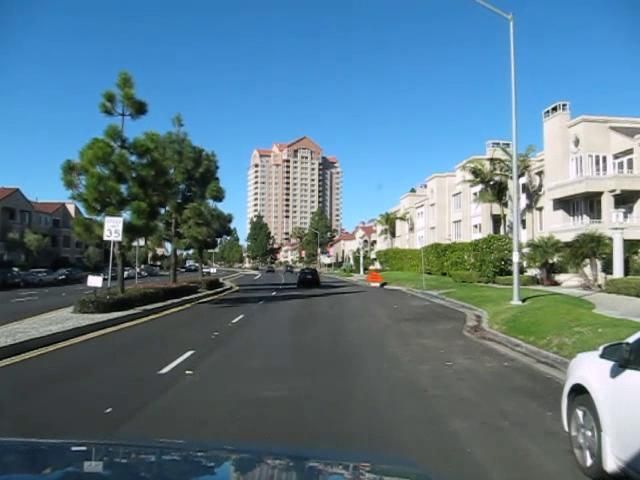speedLimit35: (103, 216, 123, 240)
